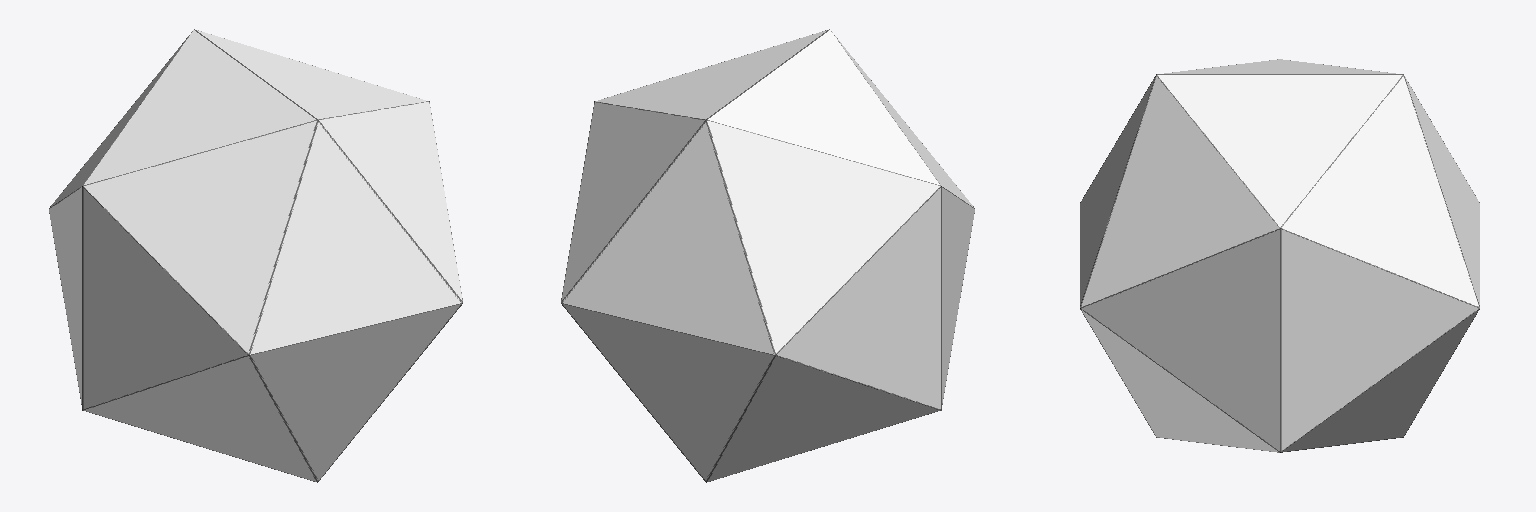
3 views of the same model, side by side, from view 1: azimuth 30°, elevation 25°; view 2: azimuth 150°, elevation 25°; view 3: azimuth 270°, elevation 25° (orthographic).
Visible parts, largest first — view 1: Icosahedron; view 2: Icosahedron; view 3: Icosahedron.
Boxes of the visible parts, box(x1,y1,x2,y2) form: Icosahedron: box(49, 29, 462, 482); Icosahedron: box(561, 29, 974, 482); Icosahedron: box(1080, 59, 1479, 452).
Size of the model in its own units: 1 by 1 by 1.
1 materials, 1 textured.